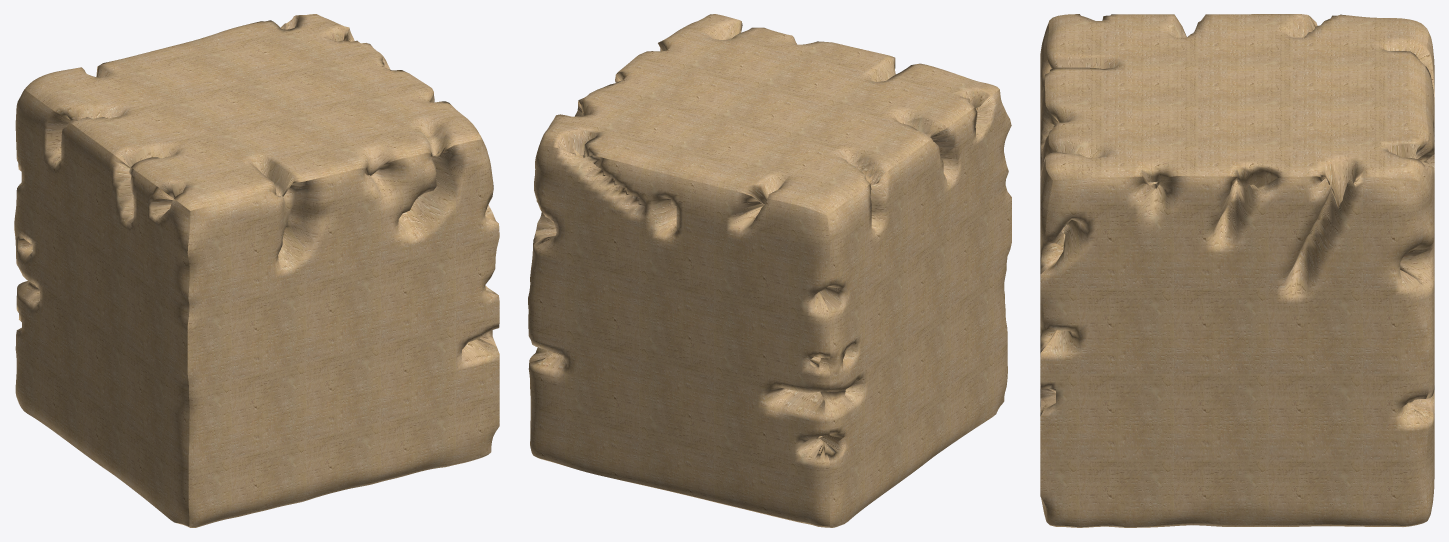
Rendered from Stone 1.fbx.
3 views of the same model, side by side, from view 1: azimuth 30°, elevation 25°; view 2: azimuth 150°, elevation 25°; view 3: azimuth 270°, elevation 25° (orthographic). The views are drawn at different scales.
Parts seen in each view (by area): view 1: pCube2; view 2: pCube2; view 3: pCube2.
Boxes of the visible parts, <box> form: pCube2: <box>14,14,499,527</box>; pCube2: <box>528,14,1011,527</box>; pCube2: <box>1040,14,1434,527</box>.
Size of the model in its own units: 4 by 4 by 4.
1 material, 1 textured.
